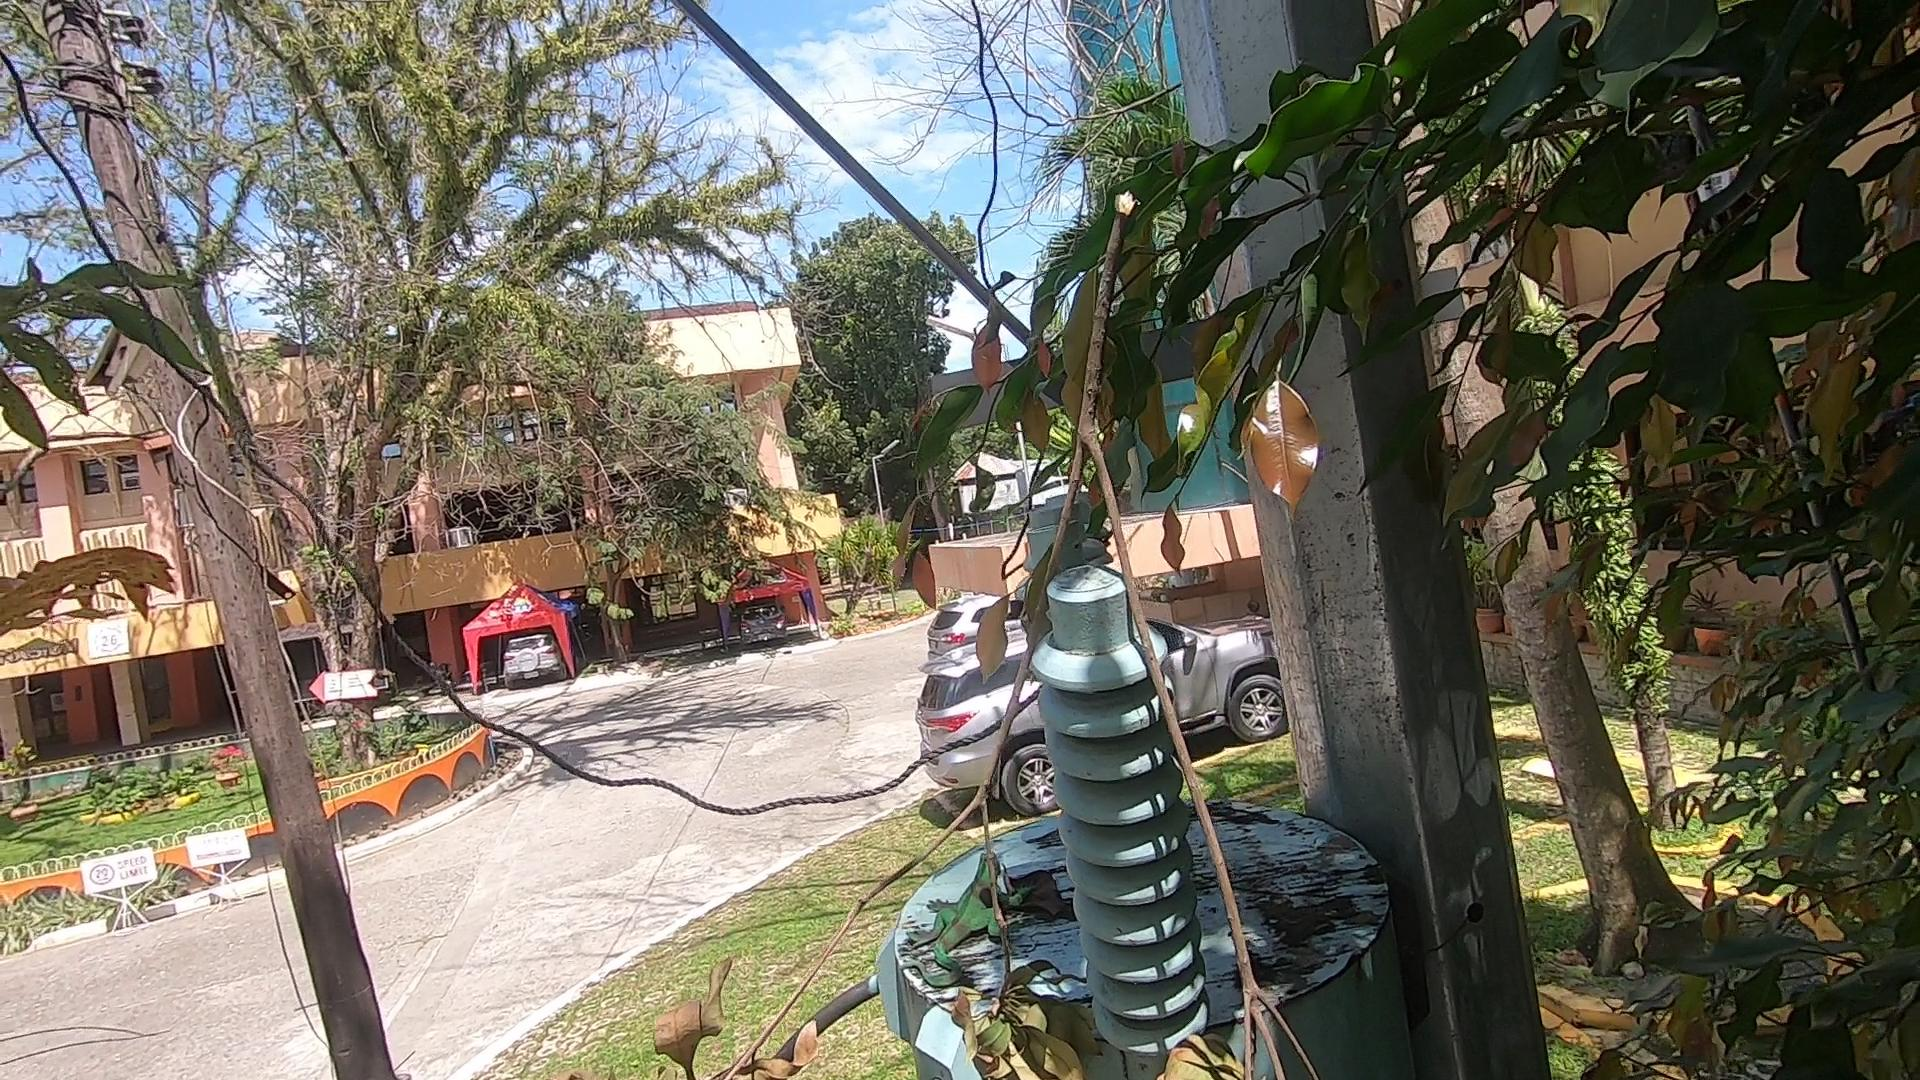branch with leaves: (535, 177, 1323, 1071)
leaf: (1005, 862, 1073, 932)
